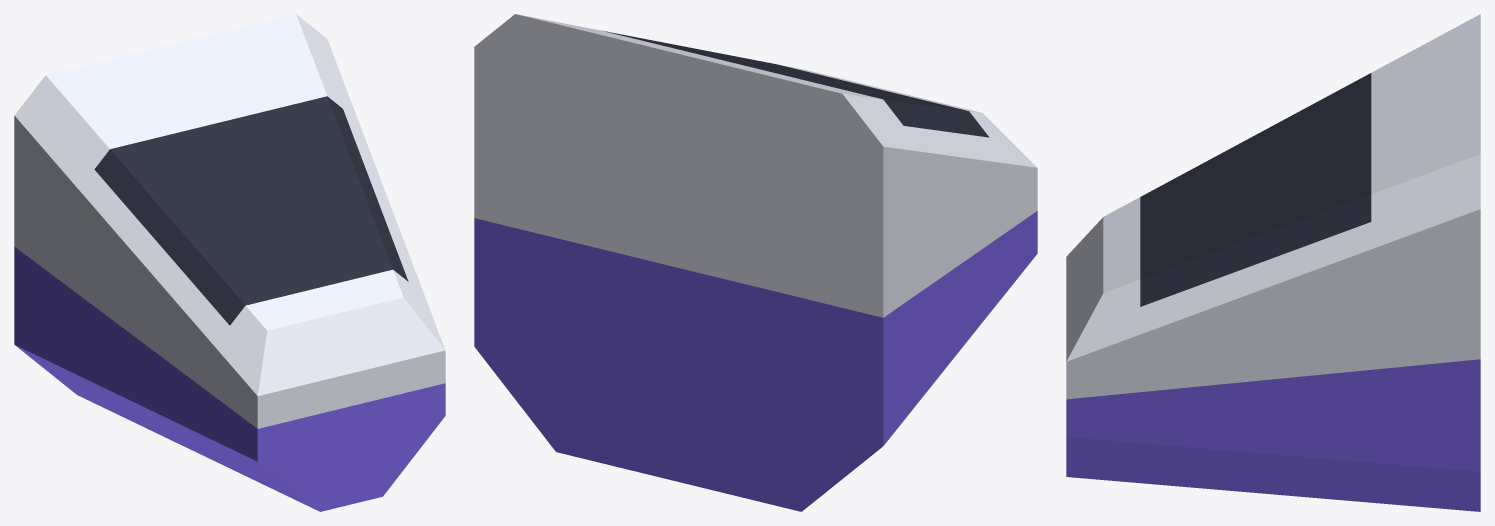
File: Cabin_1.fbx
The picture shows the model from 3 angles, left to right: view 1: azimuth 30°, elevation 25°; view 2: azimuth 150°, elevation 25°; view 3: azimuth 270°, elevation 25°; orthographic projection. The views are drawn at different scales.
Parts seen in each view (by area): view 1: hull_cockpitPoint; view 2: hull_cockpitPoint; view 3: hull_cockpitPoint.
Part boxes in pixels (left/top/right/bottom): hull_cockpitPoint: left=14, top=14, right=445, bottom=511; hull_cockpitPoint: left=474, top=14, right=1037, bottom=511; hull_cockpitPoint: left=1066, top=14, right=1480, bottom=511.
Size of the model in its own units: 10 by 10 by 10.
